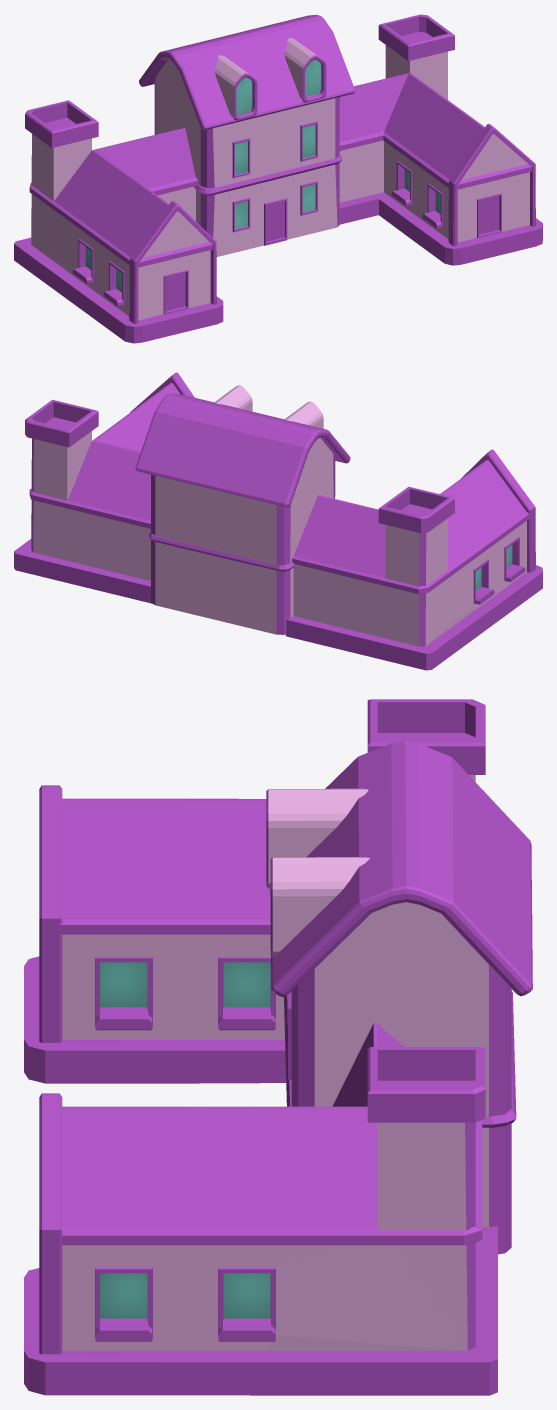
File: SM_House_16.fbx
3 renders of one model, top to bottom at view 1: azimuth 30°, elevation 25°; view 2: azimuth 150°, elevation 25°; view 3: azimuth 270°, elevation 25°, orthographic. The views are drawn at different scales.
Visible parts, largest first — view 1: SM_House_16; view 2: SM_House_16; view 3: SM_House_16.
Boxes of the visible parts, x1,y1,x2,y2 form: SM_House_16: (14, 14, 542, 343); SM_House_16: (14, 372, 542, 670); SM_House_16: (24, 699, 532, 1395).
Size of the model in its own units: 2068 by 900 by 1090.
